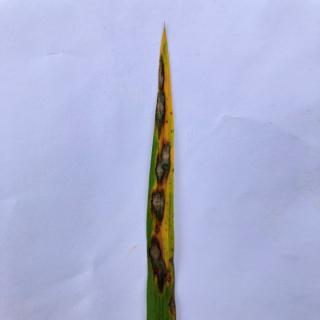Blast: (146, 227, 174, 298), (151, 58, 167, 140), (152, 142, 174, 182), (151, 190, 169, 220), (164, 296, 180, 316)
